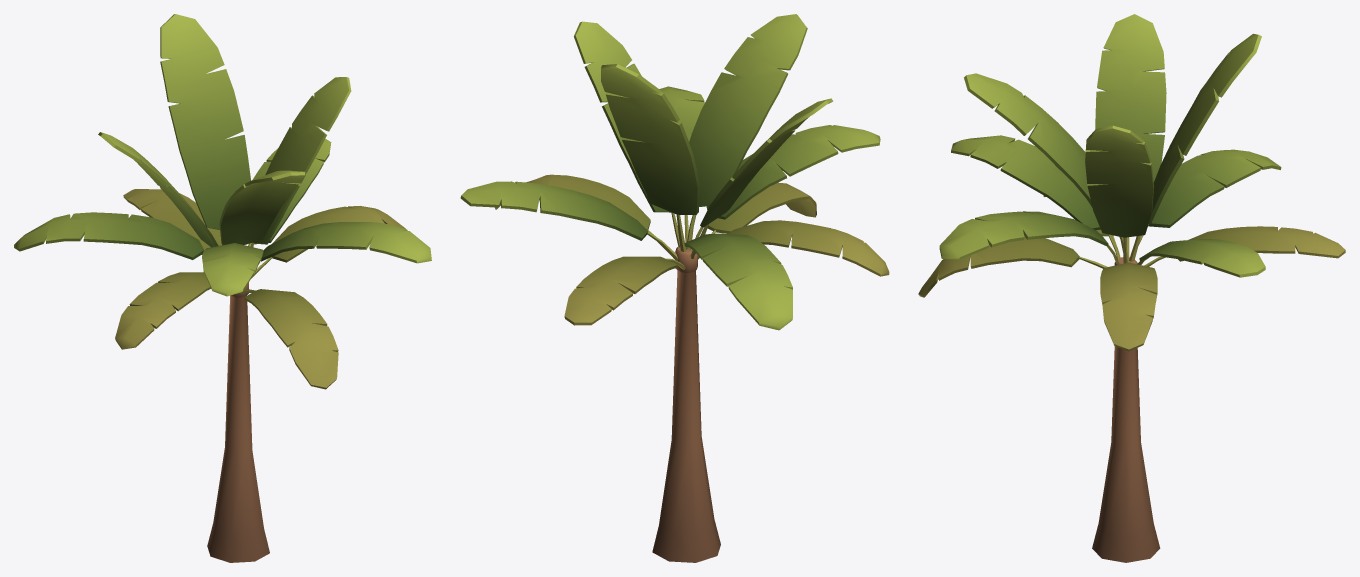
Rendered from BananaTree_01.fbx.
3 views of the same model, side by side, from view 1: azimuth 30°, elevation 25°; view 2: azimuth 150°, elevation 25°; view 3: azimuth 270°, elevation 25° (orthographic). The views are drawn at different scales.
Visible parts, largest first — view 1: BananaTree_01_LOD0; view 2: BananaTree_01_LOD0; view 3: BananaTree_01_LOD0.
Part boxes in pixels (bbox=[...]): BananaTree_01_LOD0: bbox=[14, 14, 431, 562]; BananaTree_01_LOD0: bbox=[460, 14, 889, 562]; BananaTree_01_LOD0: bbox=[918, 14, 1345, 562].
Size of what is drawn, in the model's own units: 1.84 by 2.61 by 1.96.
